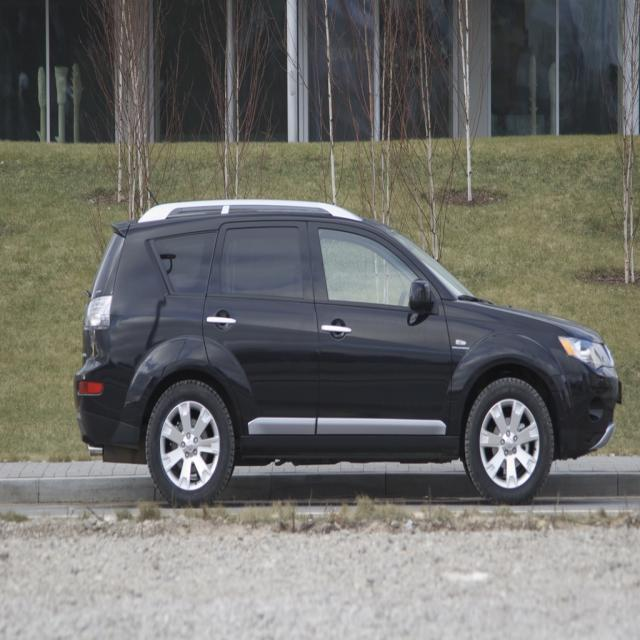car: (74, 199, 621, 508)
